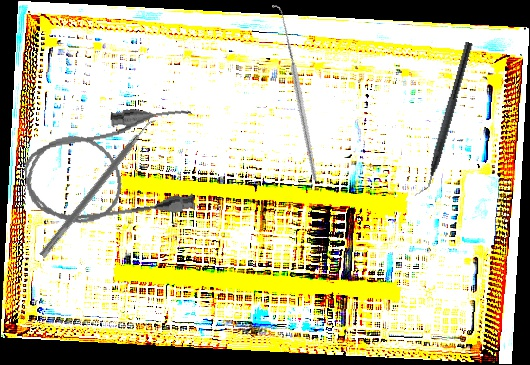Cannula: (17, 100, 207, 235)
Chopper: (412, 38, 474, 201)
Hook Surgical: (222, 3, 367, 183)
Spatula Surgical: (39, 114, 160, 263)
